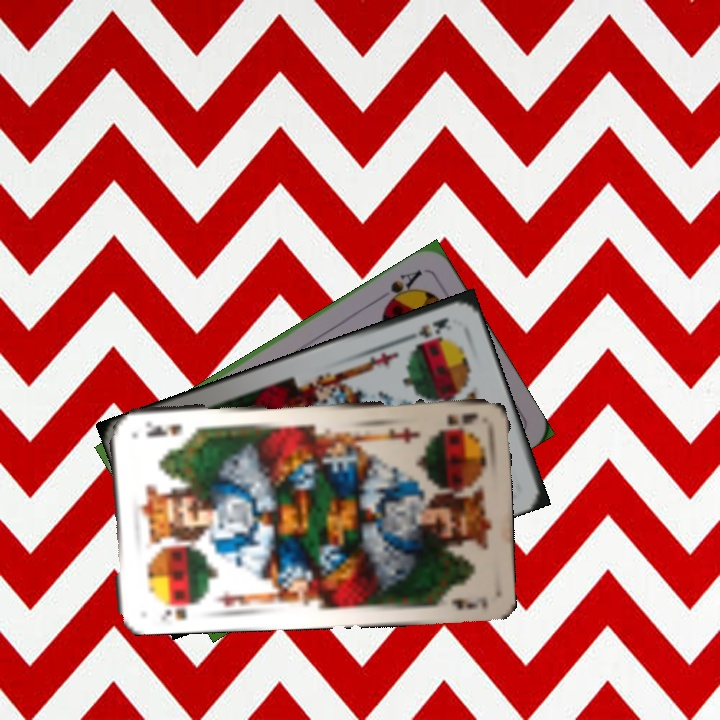SA: (379, 265, 425, 311)
SK: (399, 313, 451, 344), (155, 597, 199, 624), (442, 408, 481, 429)
